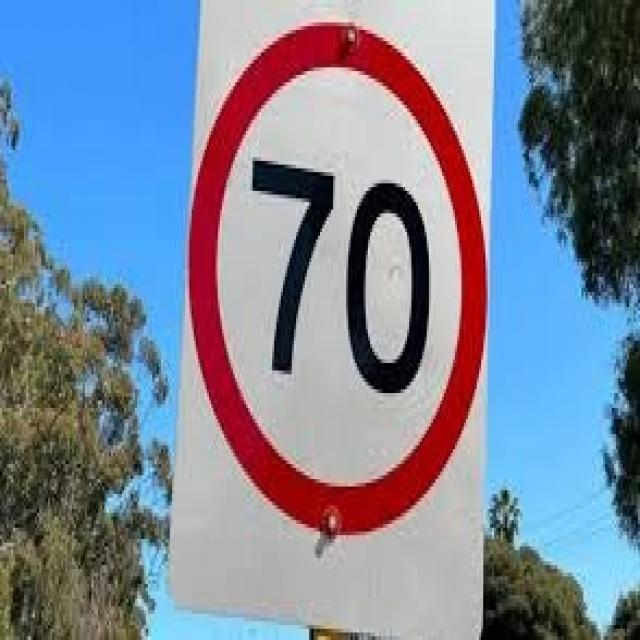speed_limit_70: (185, 12, 492, 545)
